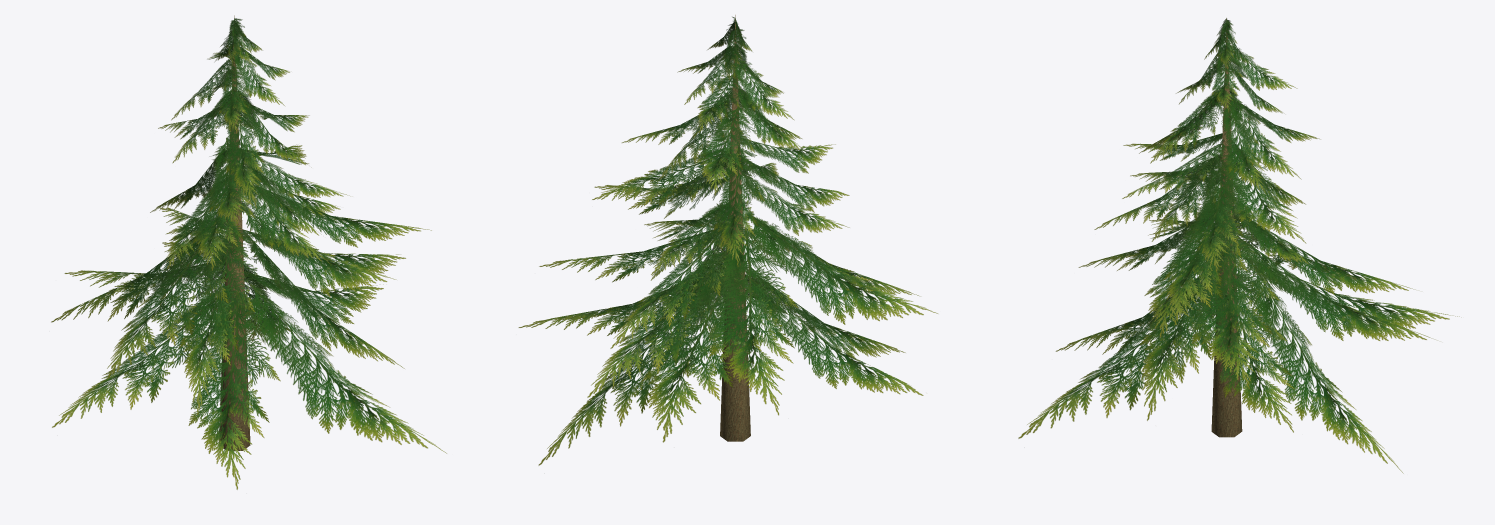
The model's file is Pine_Tree.glb.
3 views of the same model, side by side, from view 1: azimuth 30°, elevation 25°; view 2: azimuth 150°, elevation 25°; view 3: azimuth 270°, elevation 25° (orthographic). The views are drawn at different scales.
Visible parts, largest first — view 1: Tree.001_Tree_0; view 2: Tree.001_Tree_0; view 3: Tree.001_Tree_0.
Boxes of the visible parts, x1=… form: Tree.001_Tree_0: x1=51, y1=15, x2=446, y2=489; Tree.001_Tree_0: x1=518, y1=15, x2=937, y2=465; Tree.001_Tree_0: x1=1018, y1=18, x2=1459, y2=473.
Size of the model in its own units: 3.95 by 4.16 by 4.28.
Materials: 1 (1 with a texture image).
